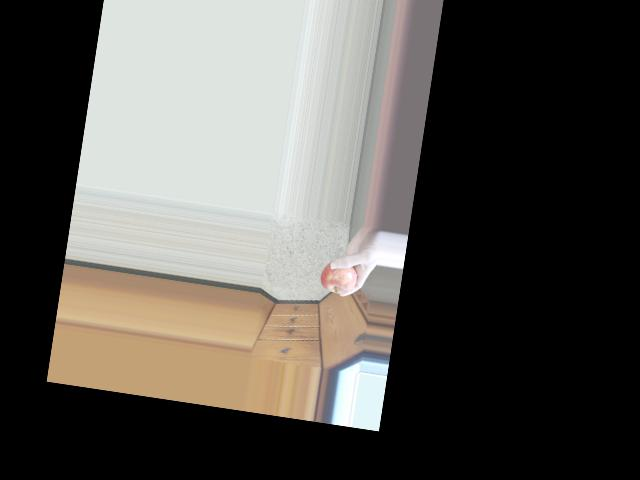apple: (318, 252, 364, 298)
